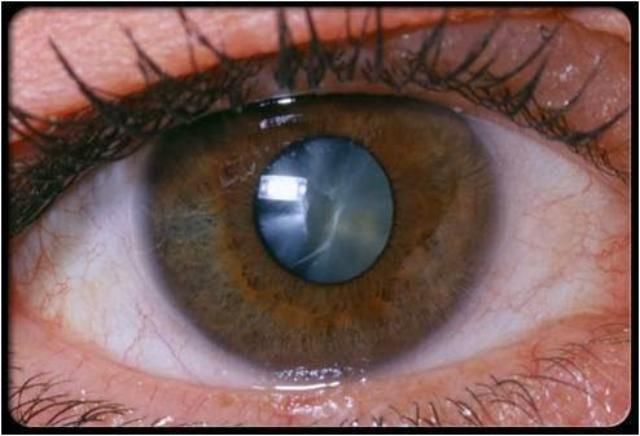eye: (129, 88, 503, 374)
